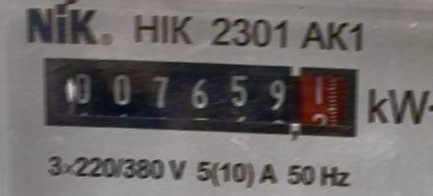0: (69, 70, 93, 110), (109, 72, 134, 110)
1: (309, 73, 327, 110)
5: (227, 73, 249, 111)
6: (186, 76, 211, 113)
7: (146, 73, 170, 113)
9: (264, 77, 288, 115)
screen: (30, 46, 369, 154)
